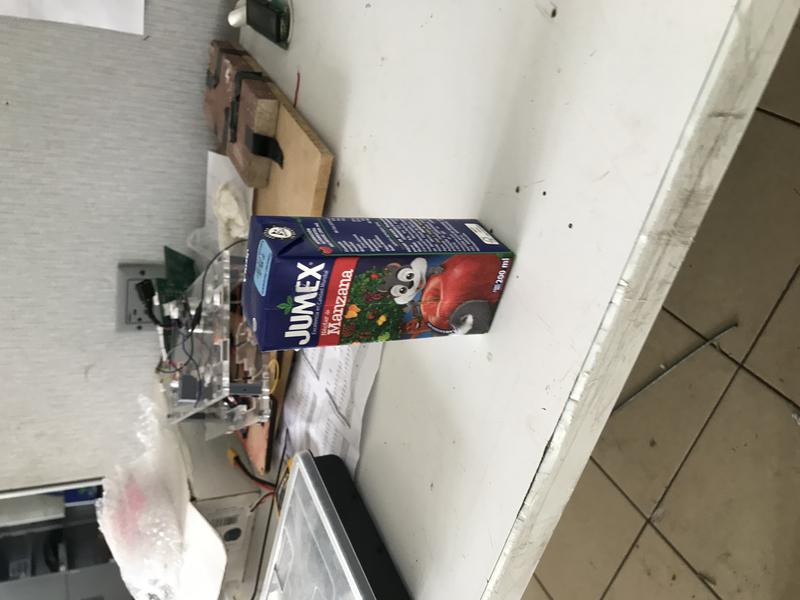jumex_cajita: (243, 214, 516, 354)
